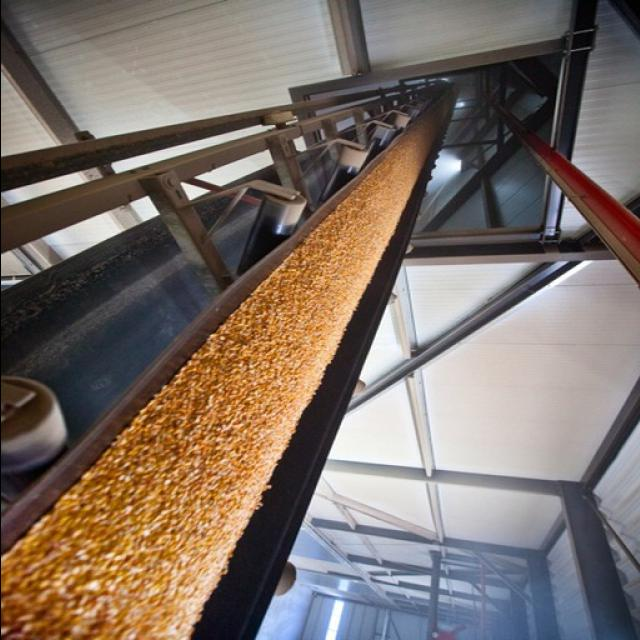conveyor: (0, 82, 457, 640)
